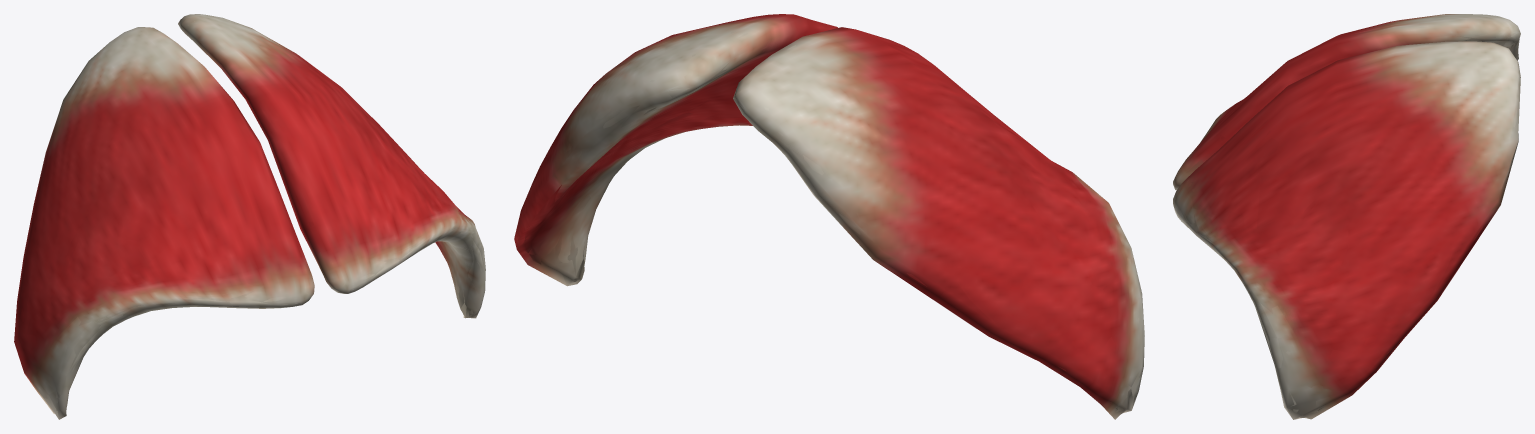
Rendered from Temporalis.fbx.
3 views of the same model, side by side, from view 1: azimuth 30°, elevation 25°; view 2: azimuth 150°, elevation 25°; view 3: azimuth 270°, elevation 25° (orthographic). The views are drawn at different scales.
Parts seen in each view (by area): view 1: Temporalis, Temporalis low, Temporalis high; view 2: Temporalis, Temporalis low, Temporalis high; view 3: Temporalis, Temporalis low, Temporalis high.
Part boxes in pixels (left/top/right/bottom): Temporalis: left=14, top=14, right=485, bottom=419; Temporalis low: left=21, top=18, right=485, bottom=419; Temporalis high: left=20, top=17, right=481, bottom=411; Temporalis: left=514, top=14, right=1144, bottom=419; Temporalis low: left=515, top=14, right=1144, bottom=418; Temporalis high: left=517, top=20, right=1140, bottom=413; Temporalis: left=1173, top=14, right=1520, bottom=419; Temporalis low: left=1173, top=15, right=1519, bottom=418; Temporalis high: left=1176, top=14, right=1518, bottom=417.
Size of the model in its own units: 6.52 by 3.96 by 4.38.
Materials: 1 (1 with a texture image).
